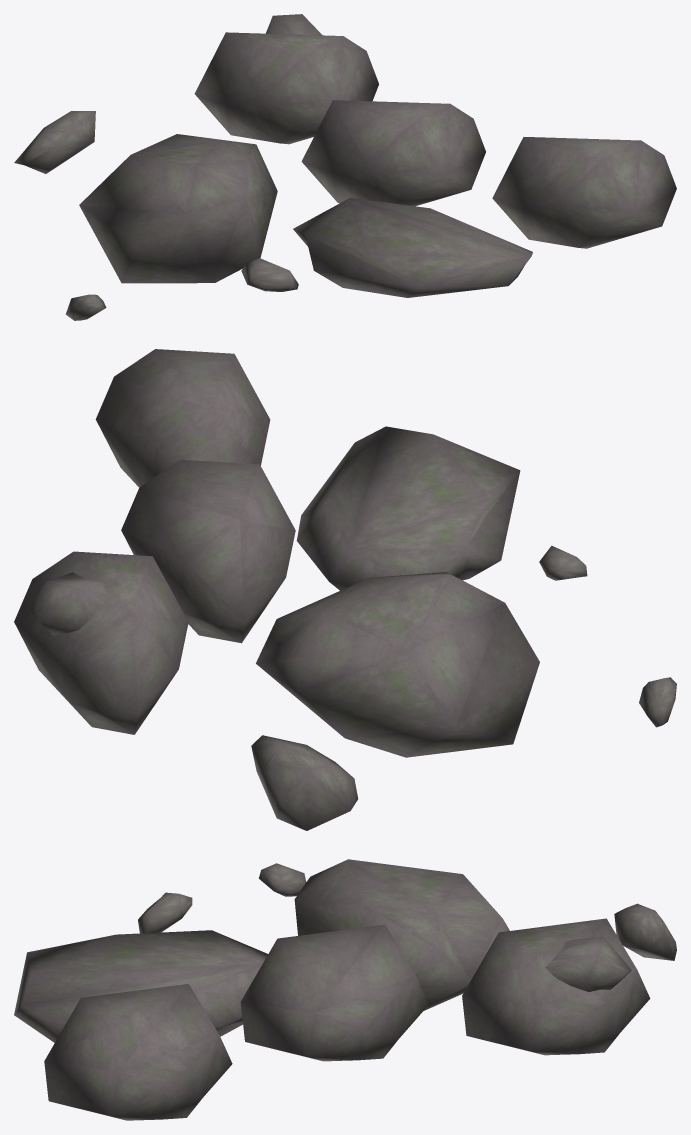
The model's file is Stones.fbx.
3 renders of one model, top to bottom at view 1: azimuth 30°, elevation 25°; view 2: azimuth 150°, elevation 25°; view 3: azimuth 270°, elevation 25°, orthographic. The views are drawn at different scales.
Parts seen in each view (by area): view 1: Stones; view 2: Stones; view 3: Stones.
Boxes of the visible parts, x1,y1,x2,y2 form: Stones: [14, 14, 676, 320]; Stones: [14, 349, 676, 830]; Stones: [14, 859, 676, 1120].
Bounding box in the file's own units: 365 × 98.3 × 345.
